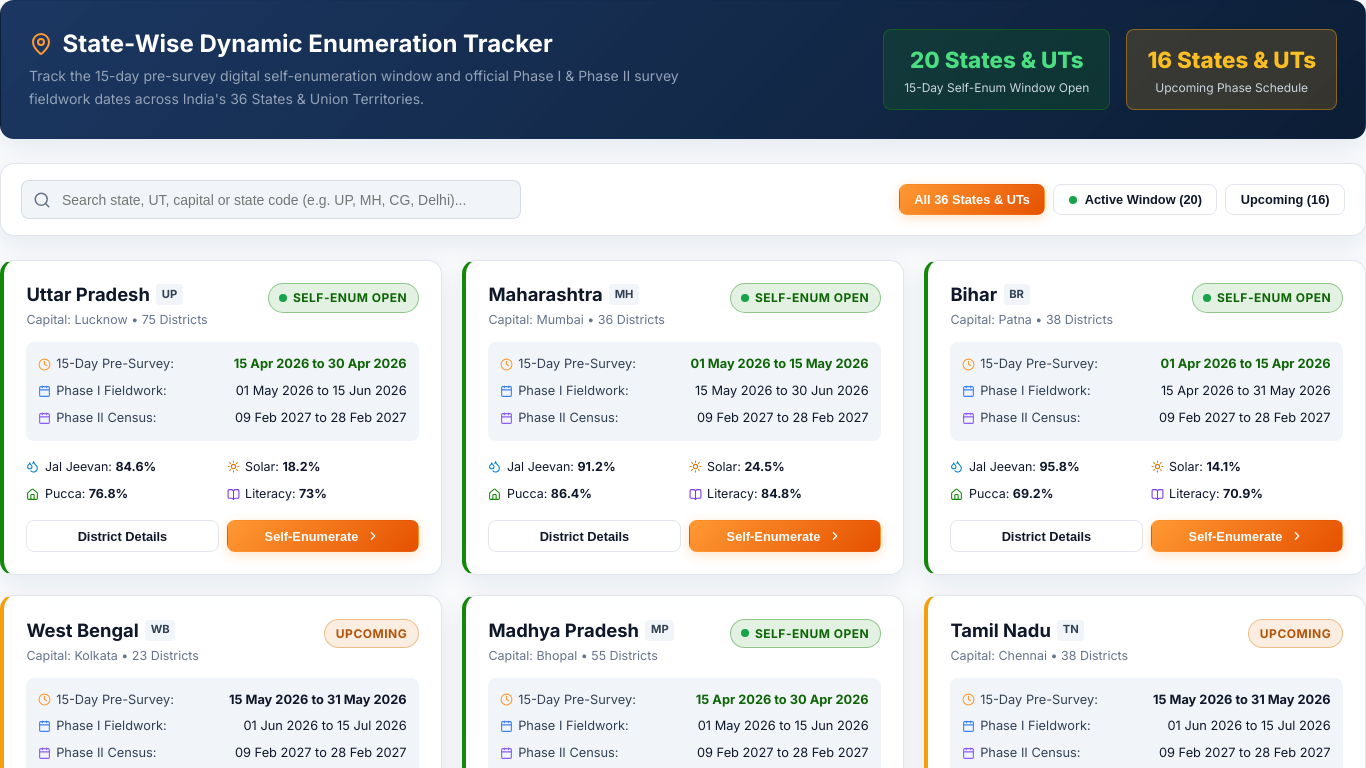
Scenario: StateTracker Component › opens state detail modal upon card click with complete ORGI schedule and districts
Click the button "District Details" below "84.6" at (122, 536), box [26,520,218,552]
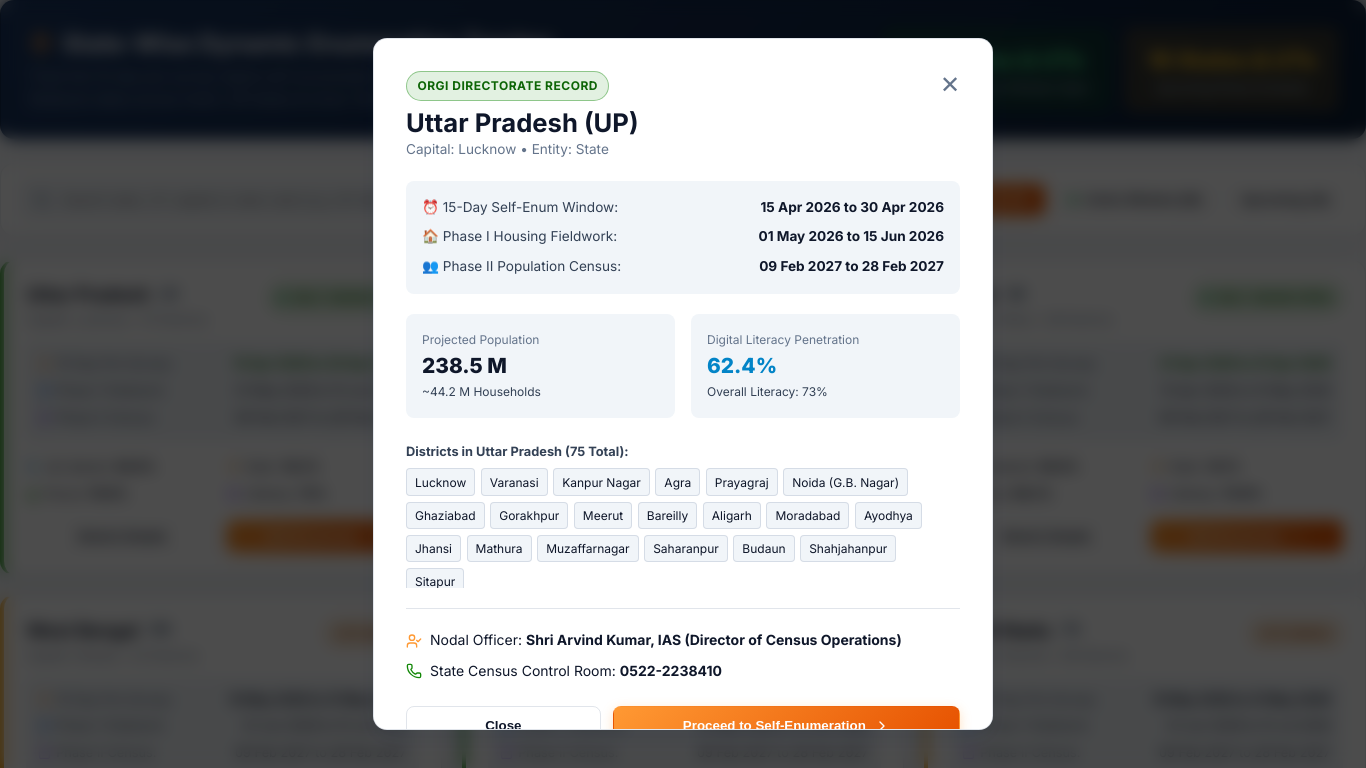
expect the text "ORGI Directorate Record" is shown: met, box [406,71,609,101]
expect the text "Districts in Uttar Pradesh (75 Total):" is shown: met, box [406,444,629,459]
